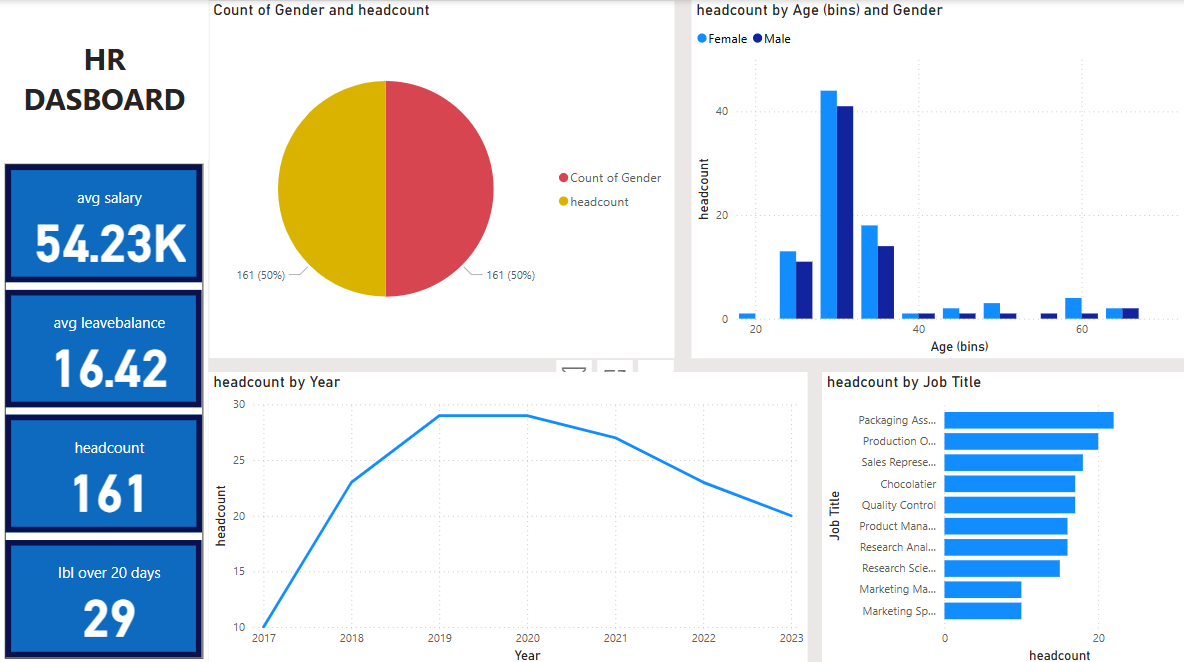

Layout of this report page (visuals, bound fields, positions):
{"tool":"powerbi","page":{"name":"Page 10","canvas":[1280,720],"ordinal":9},"visuals":[{"type":"cardVisual","fields":{"Data":["data.avg salary","data.avg leavebalance","data.headcount","data.lbl over 20 days"]},"box":[0,172.3,224.5,547.7],"z":0},{"type":"pieChart","fields":{"Y":["CountNonNull(data.Gender)","data.headcount"]},"box":[225,0,503.3,386.7],"z":1000},{"type":"clusteredBarChart","fields":{"Category":["data.Job Title"],"Y":["data.headcount"]},"box":[886.7,401.7,393.3,318.3],"z":2000},{"type":"clusteredColumnChart","fields":{"Y":["data.headcount"],"Category":["data.Age (bins)"],"Series":["data.Gender"]},"box":[746.7,0,533.3,386.7],"z":3000},{"type":"lineChart","fields":{"Y":["data.headcount"],"Category":["data.Date of Join.Variation.Date Hierarchy.Year"]},"box":[225,401.7,646.7,318.3],"z":4000},{"type":"textbox","box":[0,0,225,171.7],"z":5000}]}

Visuals, with their boxes in screenshot pixels (x1, y1, x2, y2), scaled from the page's 1280x720 canvas onto the 1184x662 screenshot:
cardVisual - data.avg salary x data.avg leavebalance: [x1=0, y1=158, x2=208, y2=661]
pieChart - CountNonNull(data.Gender) x data.headcount: [x1=208, y1=0, x2=674, y2=356]
clusteredBarChart - data.Job Title x data.headcount: [x1=820, y1=369, x2=1183, y2=661]
clusteredColumnChart - data.headcount x data.Age (bins): [x1=691, y1=0, x2=1183, y2=356]
lineChart - data.headcount x data.Date of Join.Variation.Date Hierarchy.Year: [x1=208, y1=369, x2=806, y2=661]
textbox: [x1=0, y1=0, x2=208, y2=158]
